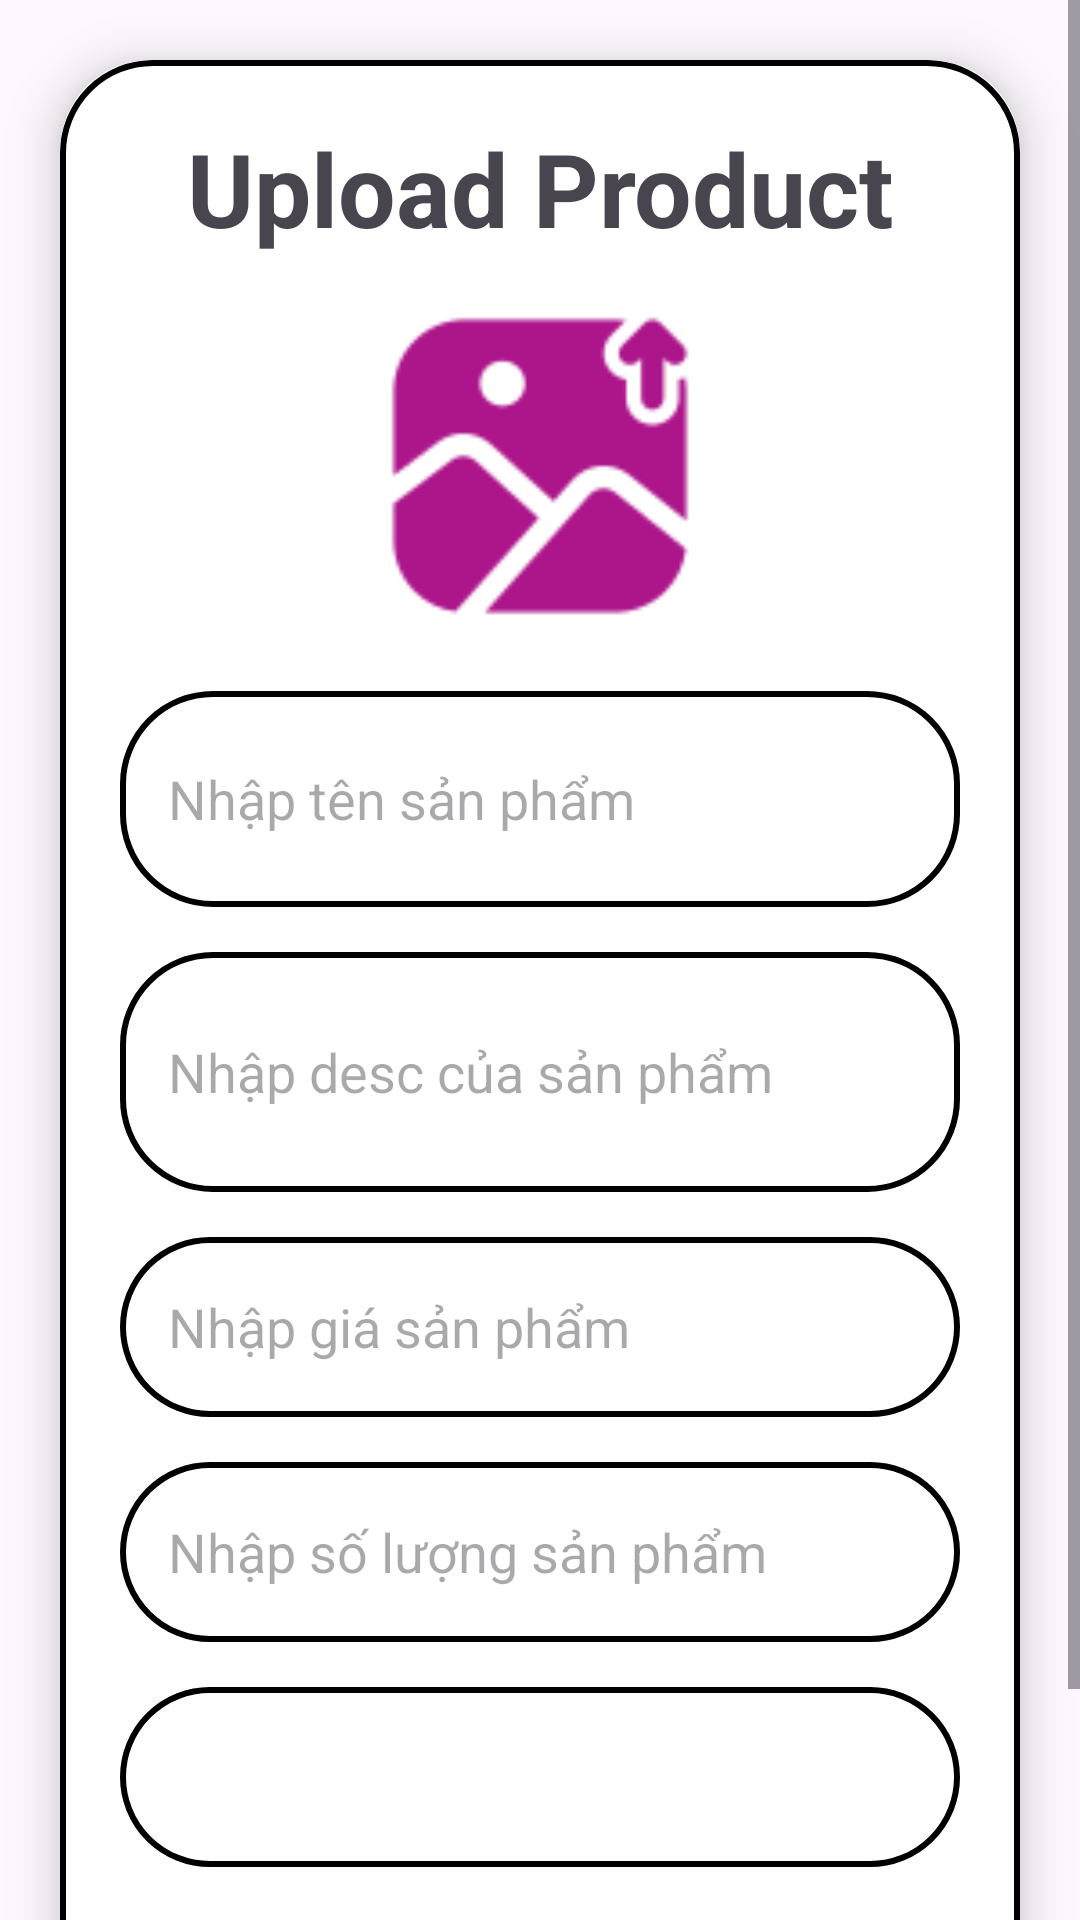

Where to tap for icons on this 1080 x 1920 app screen, as point (x, y):
uploadimg: point (540, 466)
